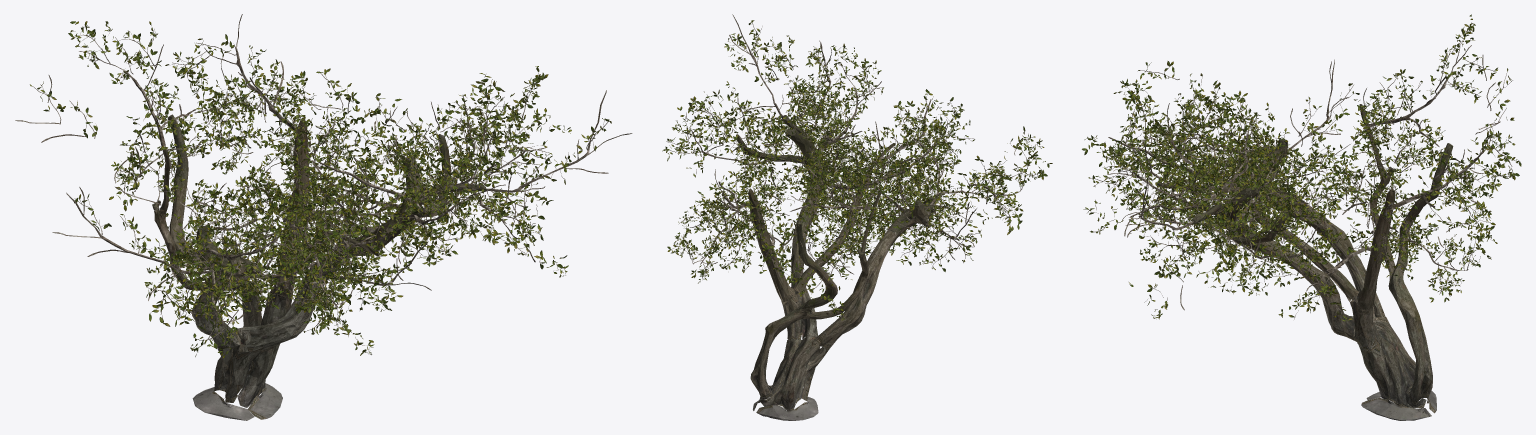
File: tree.glb
The picture shows the model from 3 angles, left to right: view 1: azimuth 30°, elevation 25°; view 2: azimuth 150°, elevation 25°; view 3: azimuth 270°, elevation 25°; orthographic projection. The views are drawn at different scales.
Parts seen in each view (by area): view 1: island_tree_02_leaves, island_tree_02_branches, island_tree_02; view 2: island_tree_02_leaves, island_tree_02, island_tree_02_branches; view 3: island_tree_02_leaves, island_tree_02, island_tree_02_branches.
Boxes of the visible parts, left/top/right/bottom form: island_tree_02_leaves: left=30, top=21, right=611, bottom=358; island_tree_02_branches: left=15, top=14, right=632, bottom=354; island_tree_02: left=152, top=114, right=486, bottom=420; island_tree_02_leaves: left=662, top=20, right=1052, bottom=320; island_tree_02: left=735, top=115, right=936, bottom=420; island_tree_02_branches: left=664, top=14, right=1041, bottom=317; island_tree_02_leaves: left=1082, top=14, right=1521, bottom=321; island_tree_02: left=1157, top=104, right=1453, bottom=420; island_tree_02_branches: left=1088, top=22, right=1513, bottom=322.
Size of the model in its own units: 4.21 by 3.39 by 4.04.
Materials: 3 (3 with a texture image).
